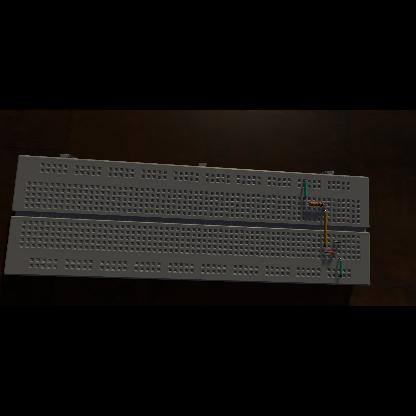breadboard: (4, 154, 370, 286)
resistor: (308, 202, 324, 206)
wire: (323, 210, 327, 248), (338, 257, 342, 277), (303, 180, 306, 199), (322, 251, 336, 254), (333, 242, 341, 243), (324, 204, 326, 206), (303, 204, 309, 204)
